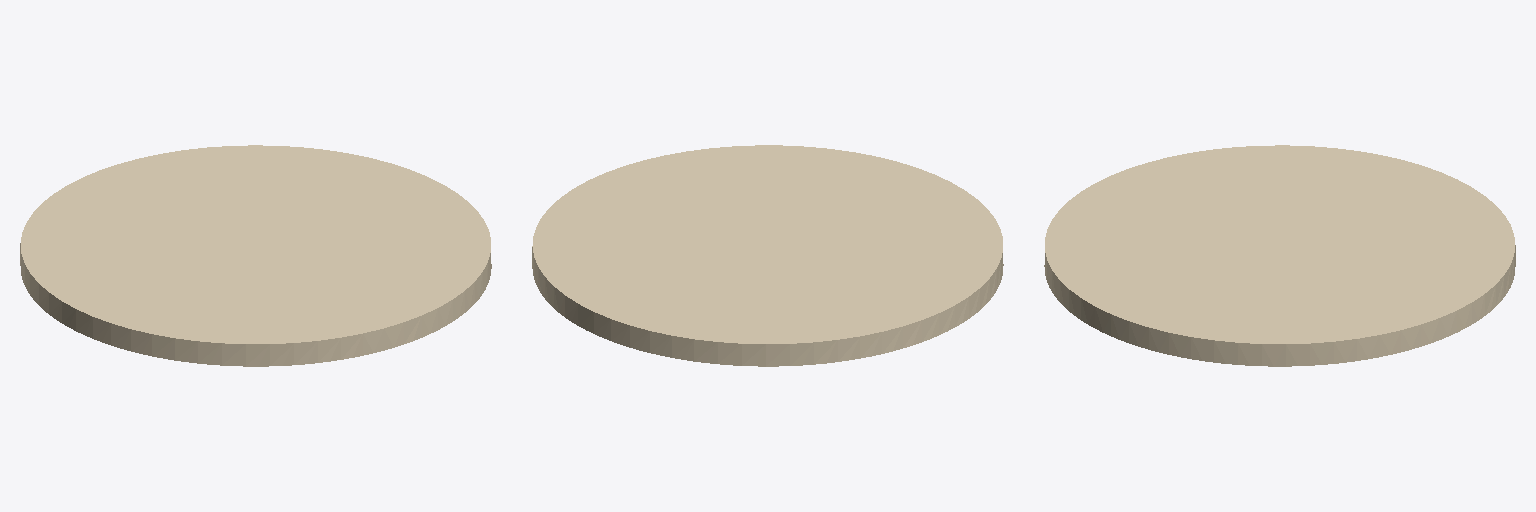
URDF robot description (pancake.urdf):
<?xml version="0.0" ?>
<robot name="pancake.urdf">
  <link name="world" />
  <link name="pancake">
    <visual>
      <origin rpy="0 0 0" xyz="0 0 0"/>
      <geometry>
        <mesh filename="pie2.obj" scale="0.8 0.8 1."/>
        <!-- <mesh filename="pie3_v.obj" scale="1 1 2"/> -->
<!--        <mesh filename="pancake_v.obj" scale="0.001 0.001 0.0015"/>-->
<!--        <mesh filename="pie6_v.obj" scale="1 1 1"/>-->
      </geometry>
      <material name="pancake_yellow">
        <color rgba="0.9 0.85 0.75 1.0"/>
      </material>
    </visual>
    <inertial>
      <origin rpy="0 0 0" xyz="0 0 0"/>
      <mass value="0.001"/>
<!--      <inertia ixx="0.000045" ixy="0" ixz="0" iyy="0.000045" iyz="0" izz="0.00009"/>-->
      <inertia ixx="0.0009" ixy="0" ixz="0" iyy="0.0009" iyz="0" izz="0.0018"/>
    </inertial>
    <collision>
      <origin rpy="0 0 0" xyz="0 0 0"/>
      <geometry>
  	    <mesh filename="pie2.obj" scale="0.8 0.8 1."/>  	   
         <!-- <mesh filename="pie3_v.obj" scale="1 1 2"/> -->
<!--  	    <mesh filename="pancake_v.obj" scale="0.001 0.001 0.0015"/>-->
<!--  	    <mesh filename="pie6_v.obj" scale="1 1 1"/>-->
      </geometry>
    </collision>
  </link>
      <joint name="pancake_joint" type="floating">
        <origin xyz="0 0 0" rpy="0 0 0" />
        <parent link="world" />
        <child link="pancake" />
        <!-- <axis xyz="0 0 1"/>
        <limit effort="20" lower="0.0" upper="0.04" velocity="0.2"/> -->
    </joint>
</robot>

--- Render facts (derived) ---
The picture shows the robot from 3 angles, left to right: view 1: azimuth 30°, elevation 25°; view 2: azimuth 150°, elevation 25°; view 3: azimuth 270°, elevation 25°; orthographic projection.
Model pancake.urdf with 2 links and 1 joints (1 floating), rooted at world, posed all joints at 0.
Links seen in each view (by area): view 1: pancake; view 2: pancake; view 3: pancake.
Link boxes in pixels (x1,y1,x2,y2): pancake: [20, 145, 491, 366]; pancake: [532, 145, 1003, 366]; pancake: [1044, 145, 1515, 366].
Bounding box of the posed robot: 0.096 × 0.096 × 0.01 m (x, y, z).
Meshes: 1 distinct files referenced, 1 mesh visuals loaded (1 OBJ).
